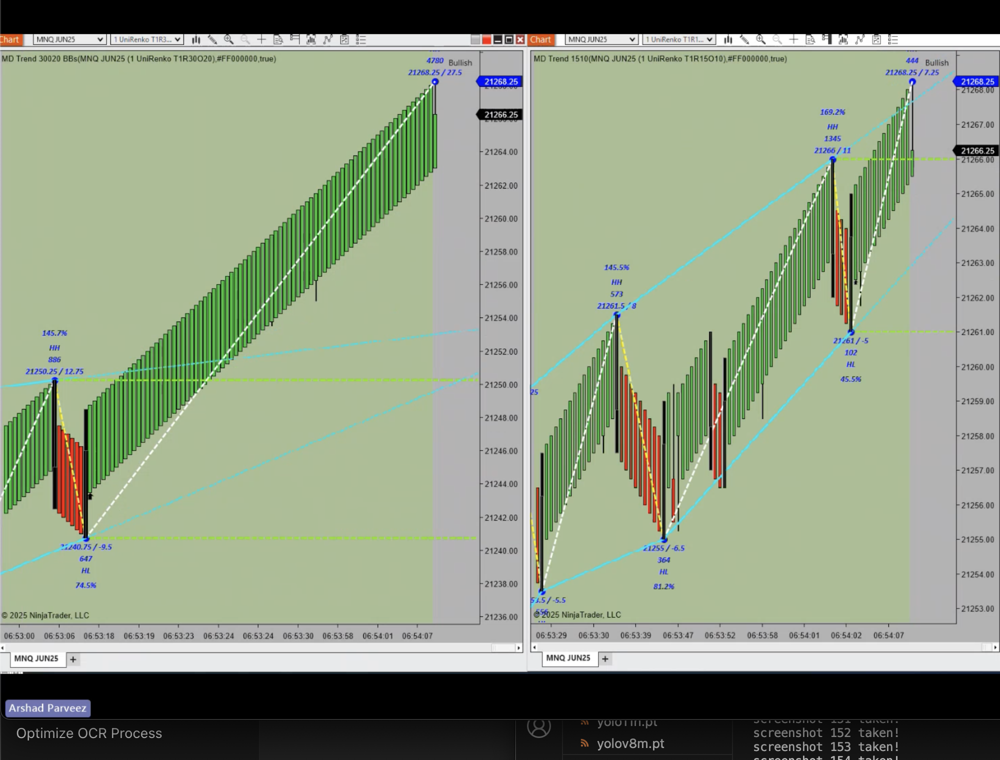HH: (821, 119, 849, 138), (606, 272, 631, 292), (43, 340, 64, 355)
HL: (651, 562, 676, 580), (840, 358, 863, 377), (76, 564, 99, 579)
